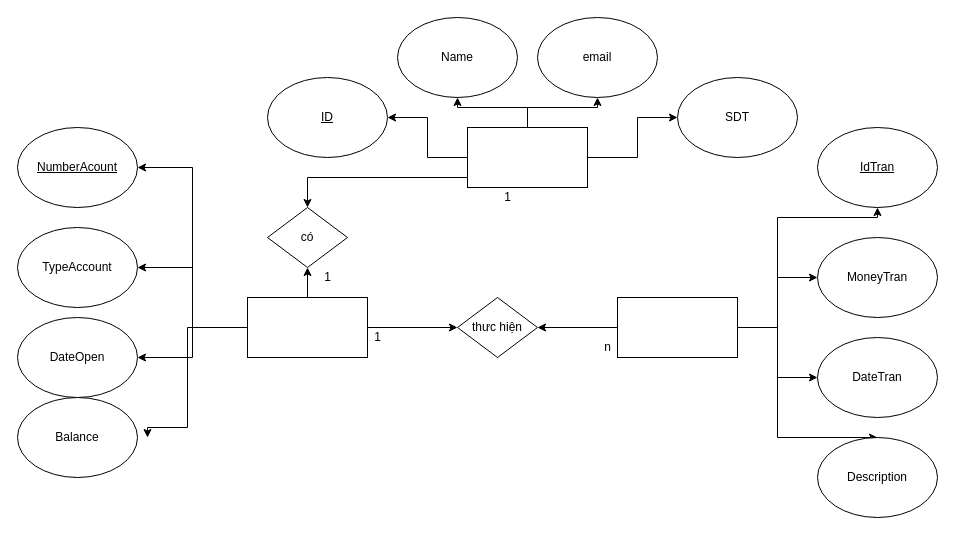
Some shapes in this 955 by 535 pixel diagram are drawn without their labels. The centre of each missing label's shape, as x and y in pixels:
Accounts: (307,327)
Customer: (527,157)
Transactions: (677,327)
